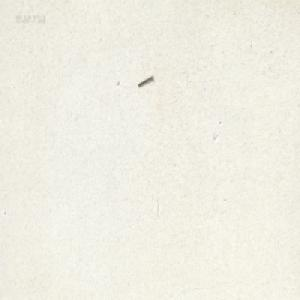Bolt: (137, 74, 153, 86)
